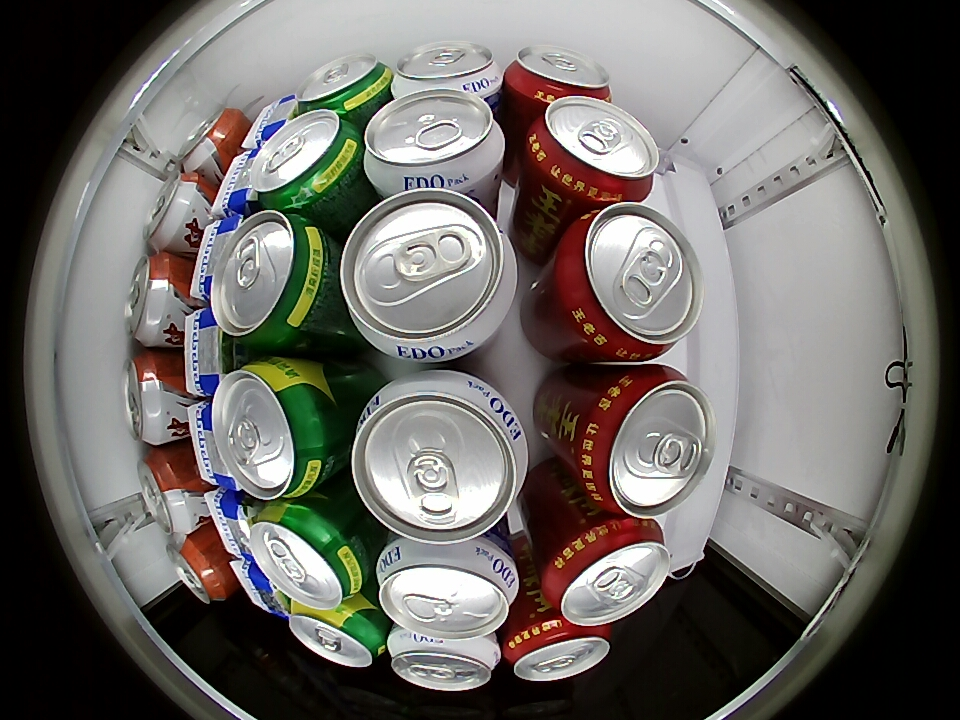anmuxi: (185, 308, 234, 398), (187, 397, 234, 490), (193, 215, 239, 304), (204, 488, 259, 561), (229, 557, 291, 619), (213, 148, 263, 215), (243, 93, 301, 149)
jianlibao: (137, 449, 197, 536), (125, 254, 178, 348), (144, 171, 204, 254), (122, 354, 173, 445), (167, 533, 228, 604), (178, 107, 241, 174)
rusuanjunqishui: (351, 369, 529, 543), (340, 189, 516, 362), (362, 90, 506, 193), (376, 538, 520, 639), (386, 629, 502, 691), (392, 41, 503, 97)
wanglaoji-c: (552, 203, 703, 363), (573, 366, 715, 518), (526, 96, 659, 205), (541, 516, 671, 626), (503, 618, 612, 682), (504, 45, 612, 105)
xuebi2: (206, 357, 337, 500), (210, 211, 336, 349), (250, 501, 369, 610), (251, 109, 363, 212), (288, 602, 387, 668), (297, 54, 392, 116)
